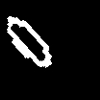chain: (7, 16, 51, 67)
